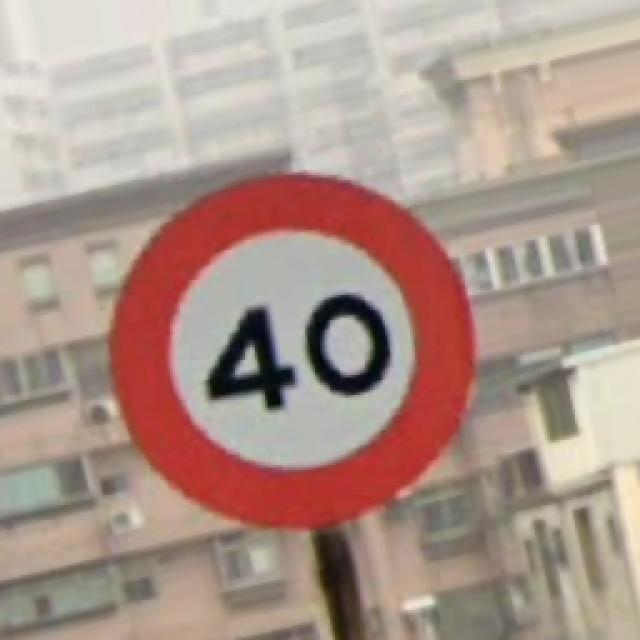Speed Limit -40-: (112, 175, 472, 528)
